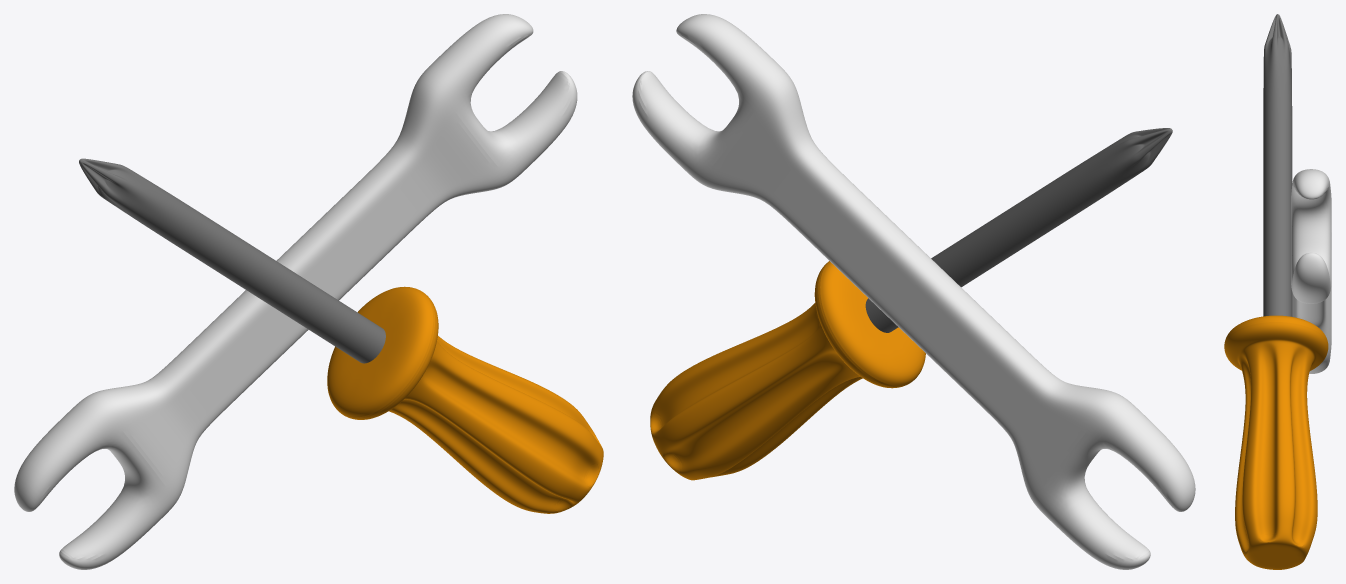
File: mantenimiento.fbx
3 renders of one model, left to right at view 1: azimuth 30°, elevation 25°; view 2: azimuth 150°, elevation 25°; view 3: azimuth 270°, elevation 25°, orthographic. The views are drawn at different scales.
Visible parts, largest first — view 1: Cube.002, Cylinder.004; view 2: Cube.002, Cylinder.004; view 3: Cylinder.004, Cube.002.
Part boxes in pixels (box(x1,y1,x2,y2)): Cube.002: box(14, 14, 577, 569); Cylinder.004: box(79, 158, 603, 513); Cube.002: box(632, 14, 1195, 569); Cylinder.004: box(650, 128, 1172, 480); Cylinder.004: box(1224, 14, 1328, 569); Cube.002: box(1291, 169, 1331, 373).
Bounding box in the file's own units: 204 × 169 × 42.38.
